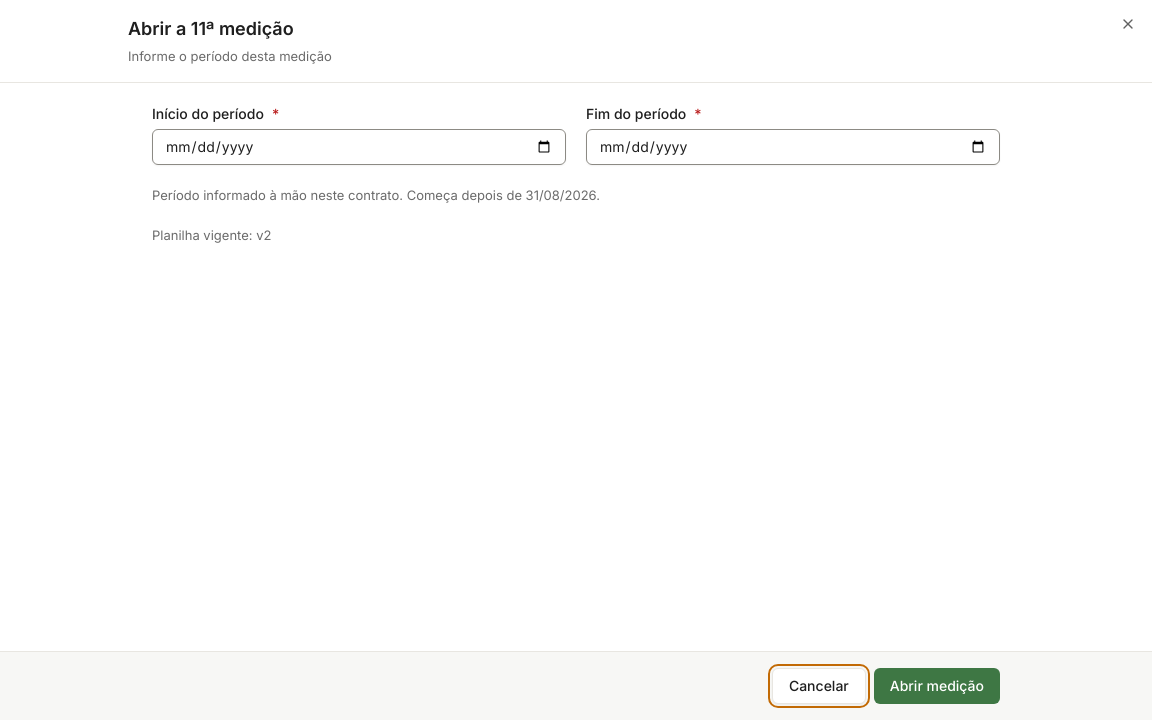
Test: AbrirMedicaoDrawer › período manual: datas vazias, dica com 'depois de' e as duas datas obrigatórias
Expected: the heading "Abrir a 11ª medição" is shown, x1=128 y1=18 x2=294 y2=39
Expected: the date field labelled "Início do período *" is empty, x1=152 y1=129 x2=566 y2=165
Click the button "Abrir medição": (937, 686) x1=874 y1=668 x2=1000 y2=704
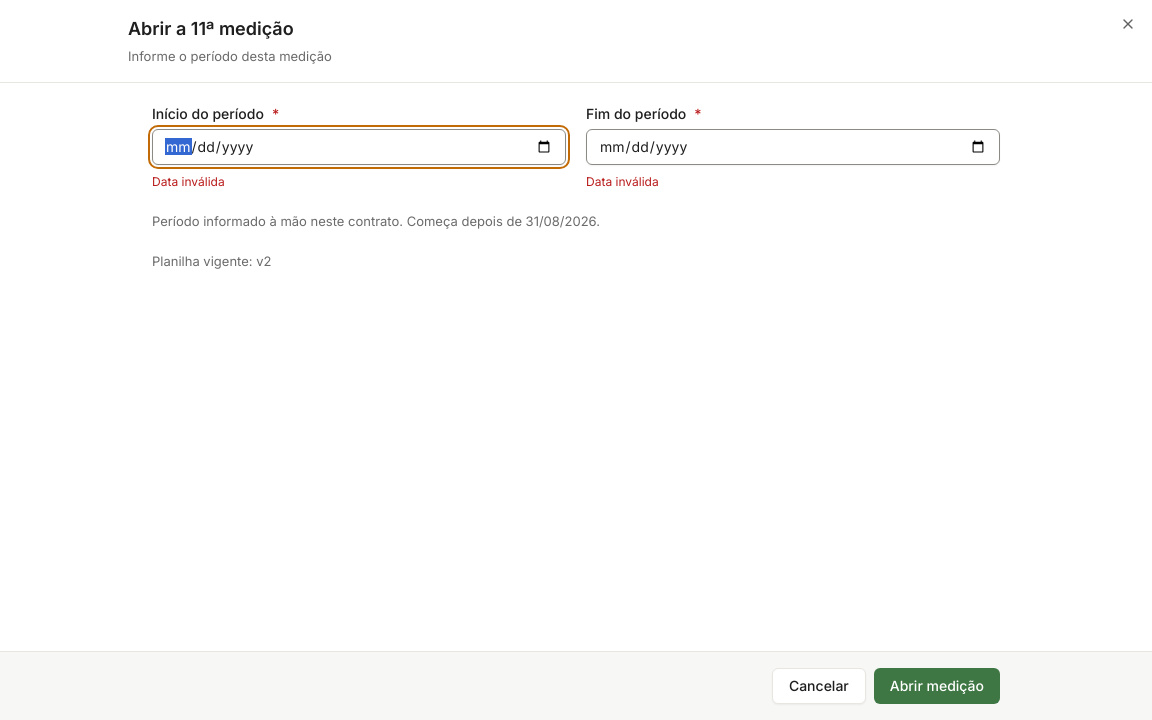
Result: the text "Data inválida" is shown 2 times at x1=152 y1=174 x2=225 y2=189; x1=586 y1=174 x2=659 y2=189
